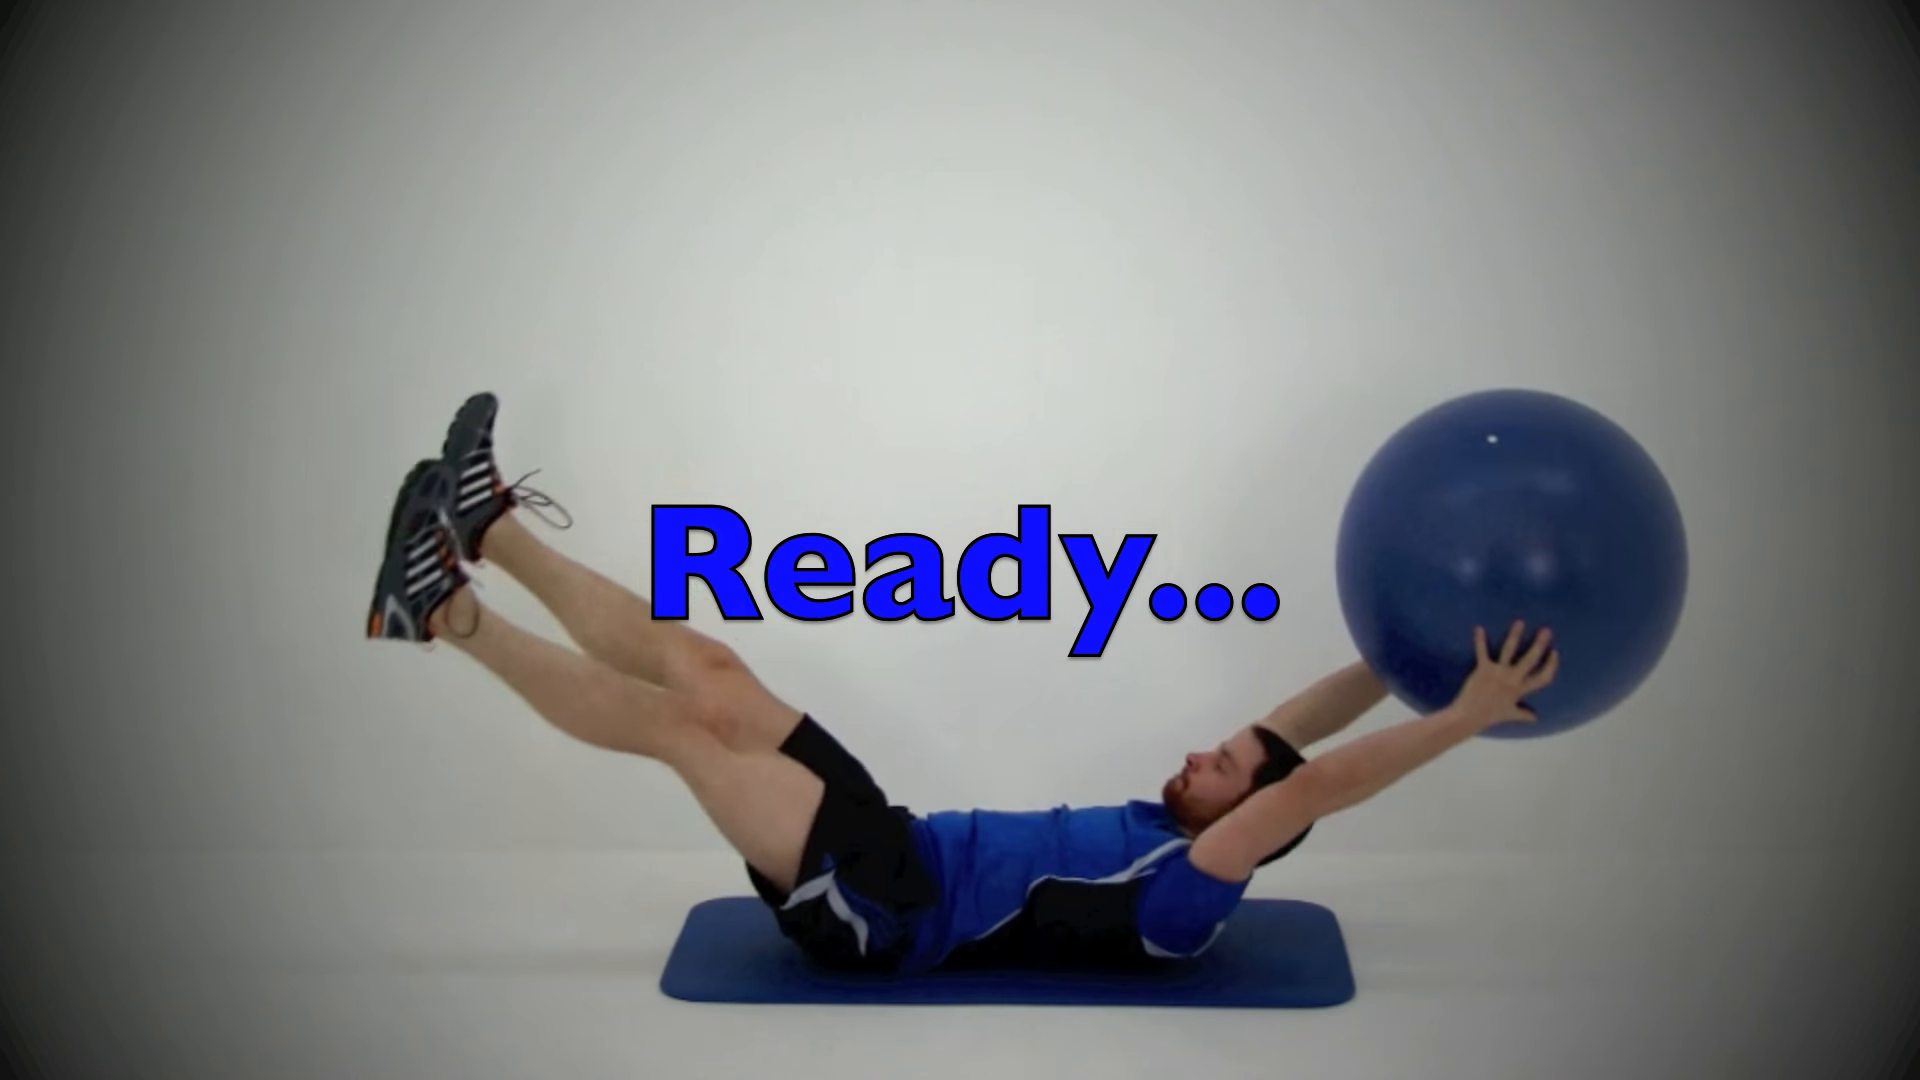yogaball: (1324, 373, 1712, 749)
